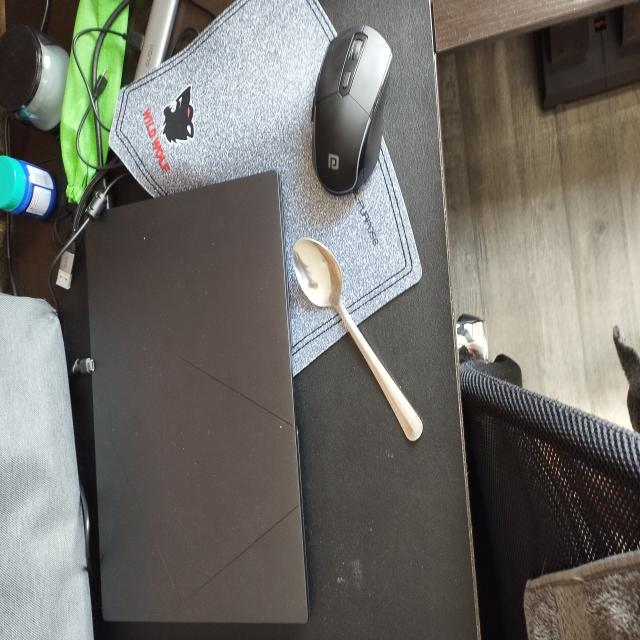Mouse: (302, 21, 414, 202)
Spoon: (280, 230, 444, 458)
